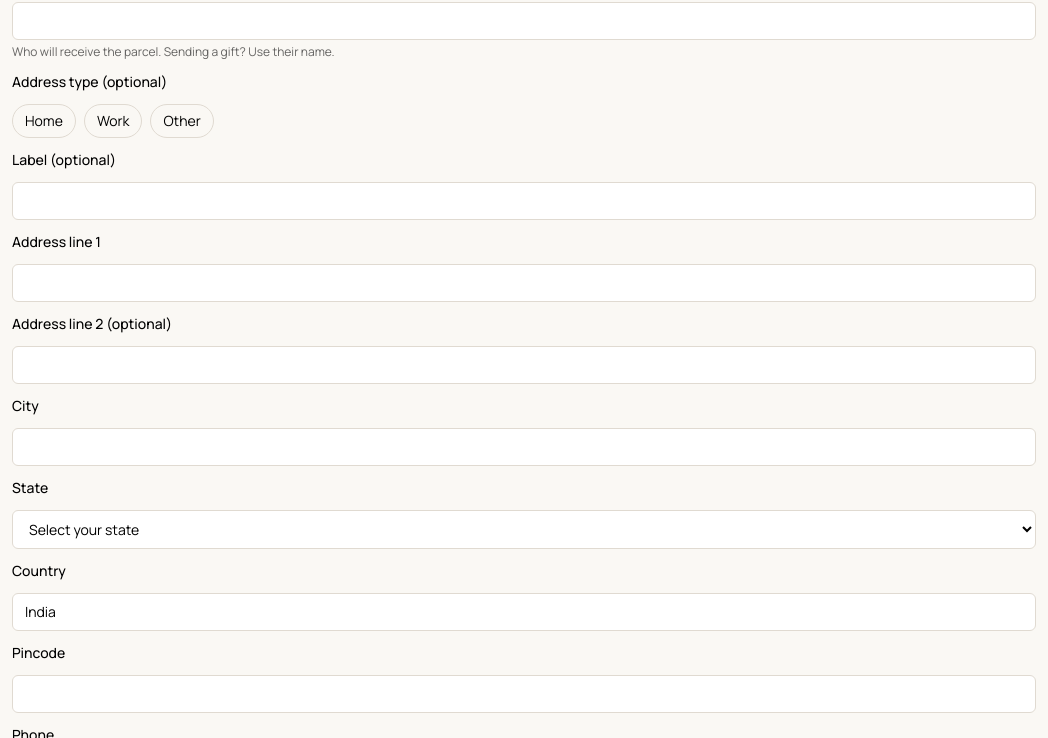
Test case: AddressForm › asks for the name of the person receiving the parcel
Step 1. Type "12 MG Road" into the field labelled "Address line 1" → x=524, y=283, box [12, 264, 1036, 302]
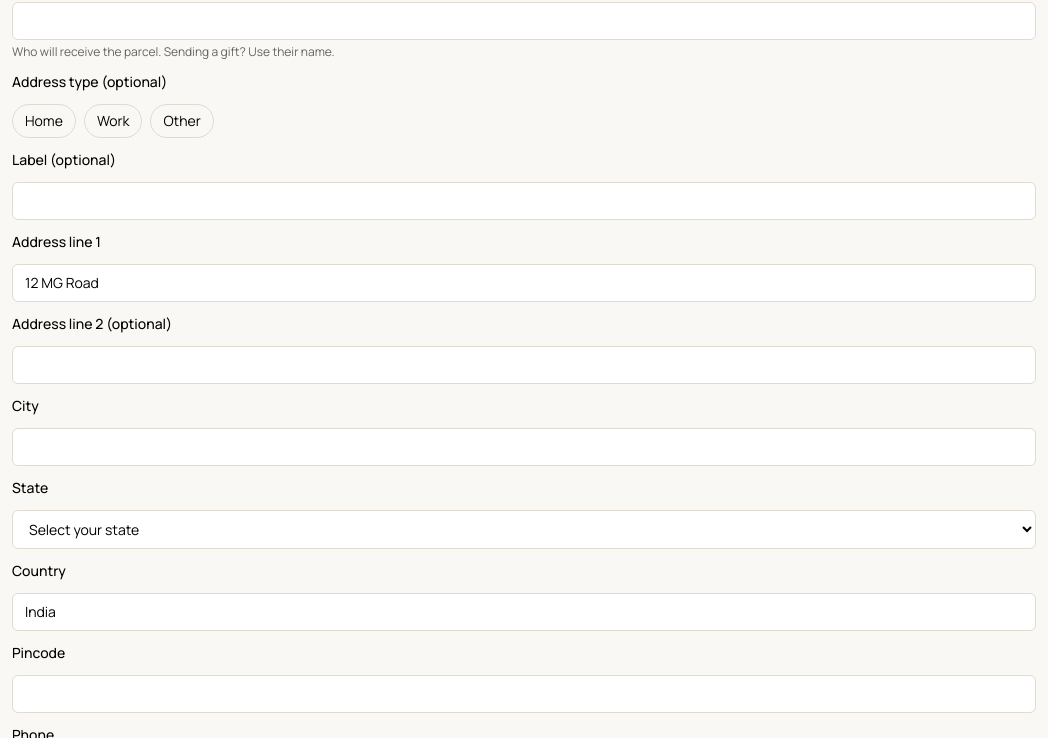
Step 2. Type "Chennai" into the field labelled "City" → x=524, y=447, box [12, 428, 1036, 466]
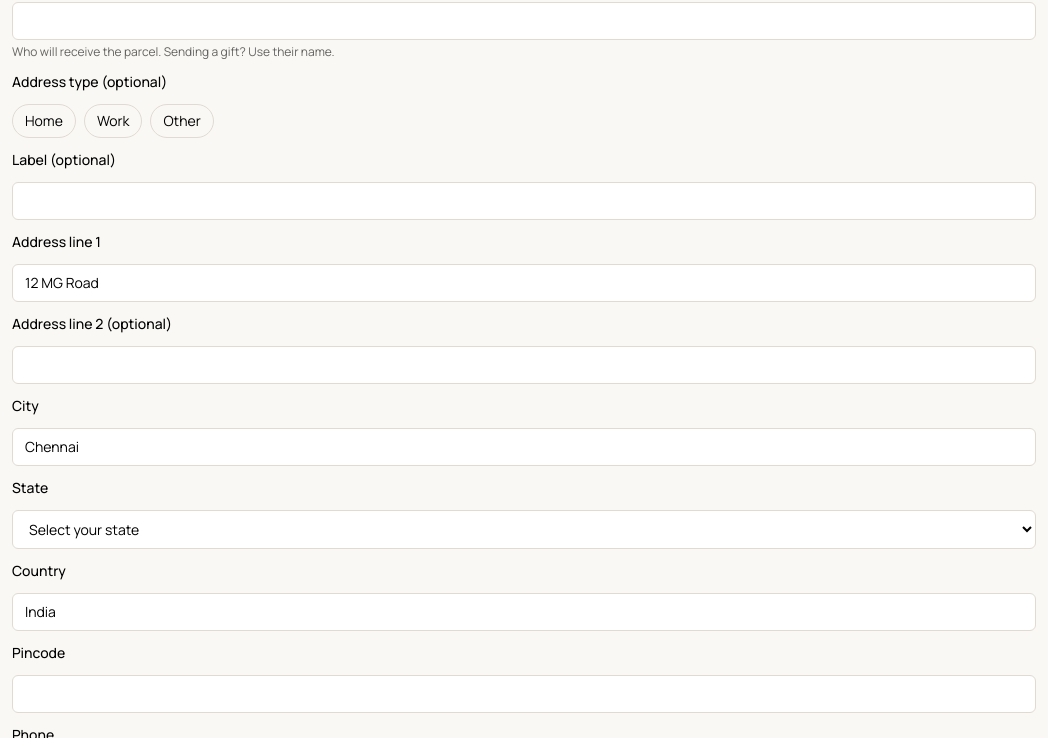
Step 3. Select "Tamil Nadu" in the dropdown labelled "State" → x=524, y=530, box [12, 510, 1036, 549]
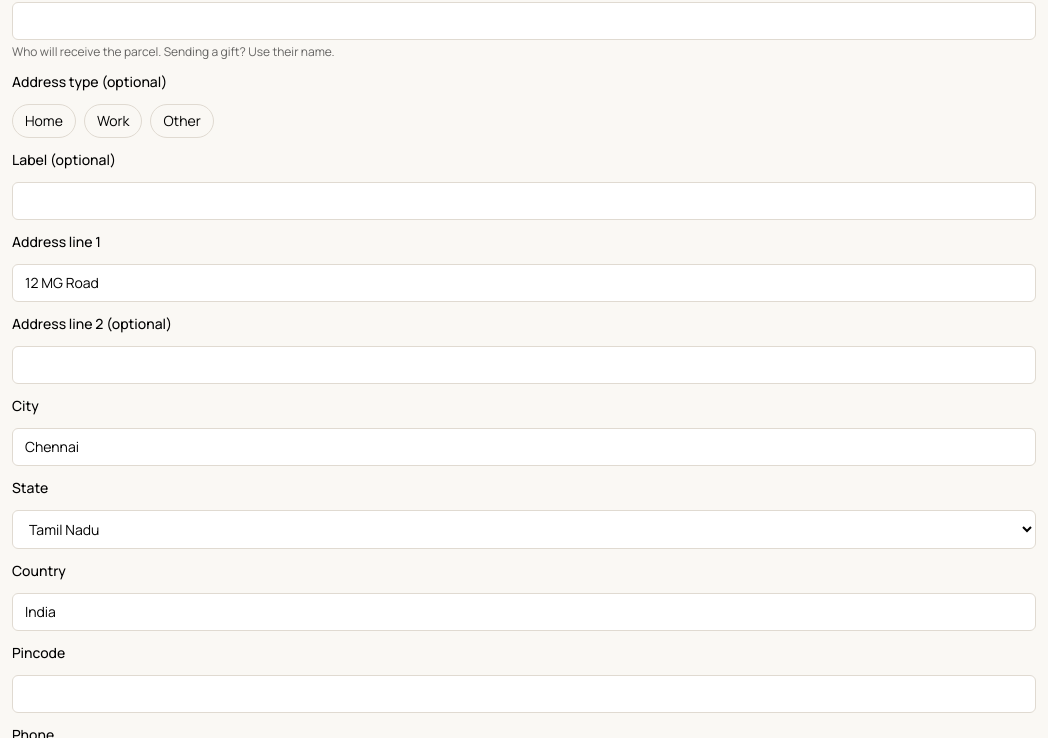
Step 4. Type "600001" into the field labelled "Pincode" → x=524, y=694, box [12, 675, 1036, 713]
(page scrolled)
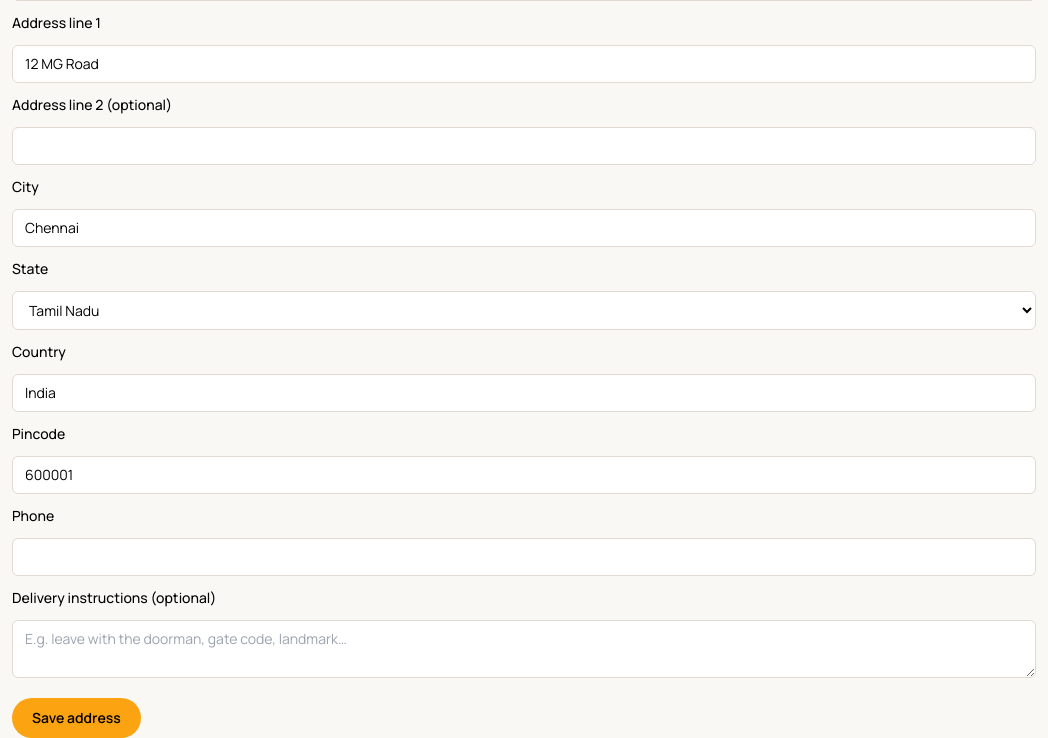
Step 5. Type "+919876543210" into the field labelled "Phone" → x=524, y=557, box [12, 538, 1036, 576]
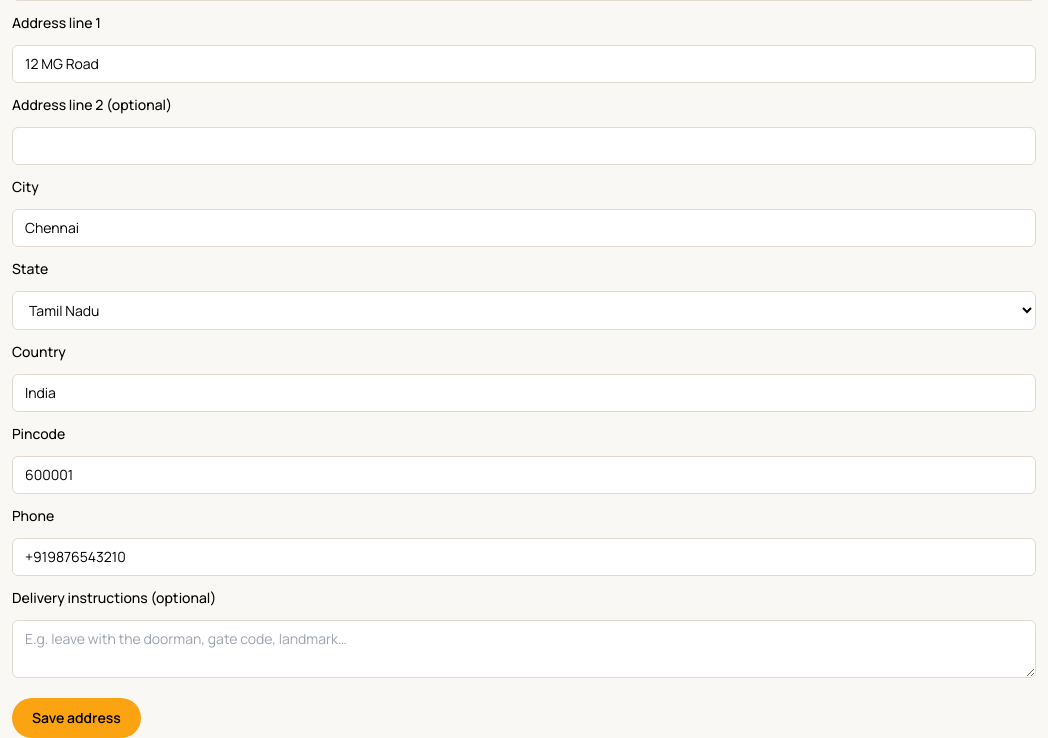
Step 6. Click the button "Save address" → x=76, y=718, box [12, 698, 141, 737]
(page scrolled)
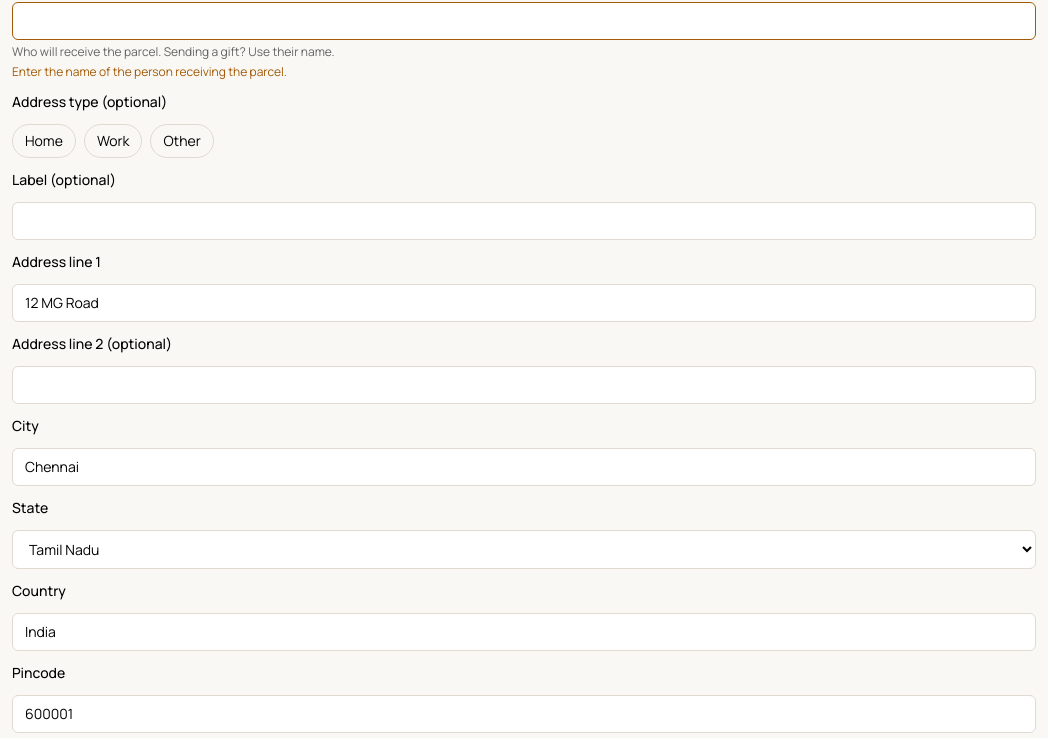
Expected: the text "Enter the name of the person receiving the parcel." is shown, [12, 63, 287, 80]
